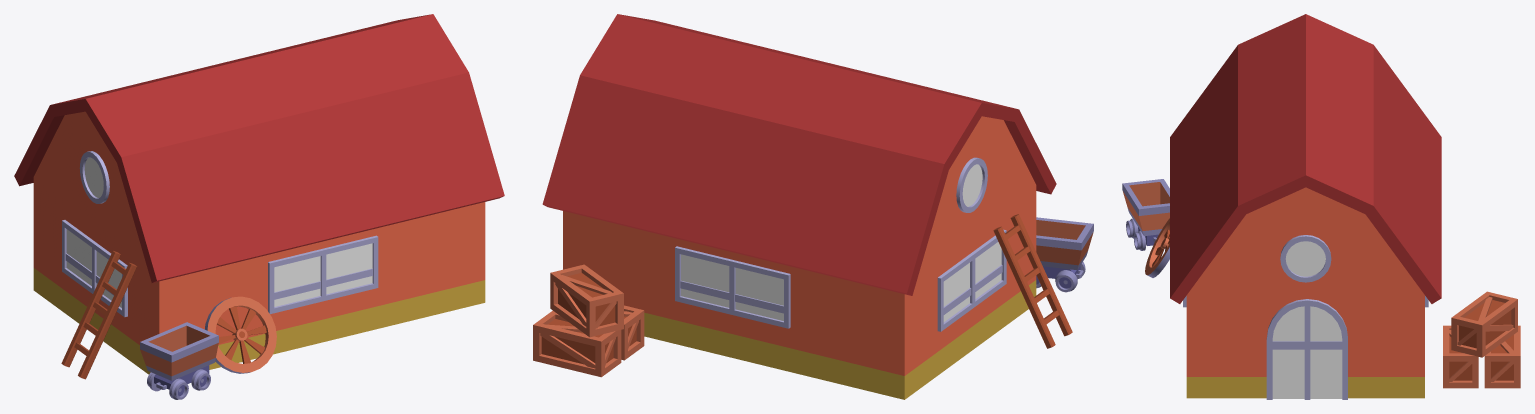
Rendered from house_red.glb.
3 views of the same model, side by side, from view 1: azimuth 30°, elevation 25°; view 2: azimuth 150°, elevation 25°; view 3: azimuth 270°, elevation 25° (orthographic). The views are drawn at different scales.
Visible parts, largest first — view 1: mergedBlocks(Clone); view 2: mergedBlocks(Clone); view 3: mergedBlocks(Clone).
Boxes of the visible parts, bbox=[...] form: mergedBlocks(Clone): bbox=[14, 14, 504, 399]; mergedBlocks(Clone): bbox=[533, 14, 1093, 399]; mergedBlocks(Clone): bbox=[1122, 14, 1520, 399].
Size of the model in its own units: 3.62 by 2.12 by 3.34.
1 material, 1 textured.
